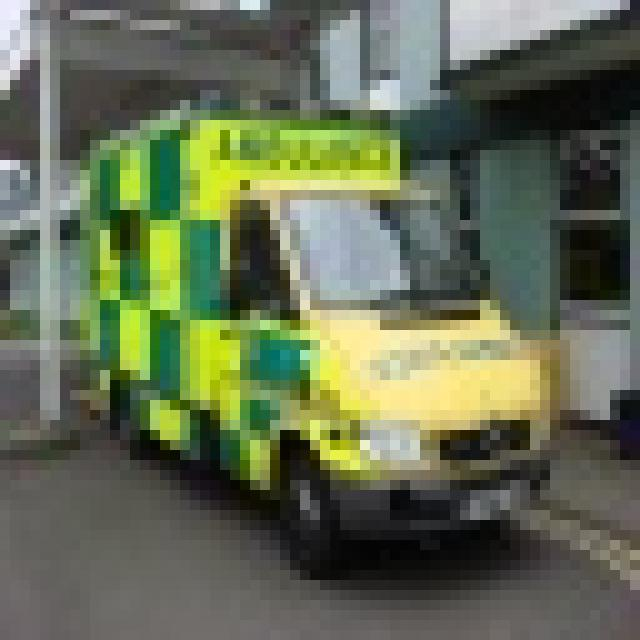Ambulance: (70, 90, 560, 570)
